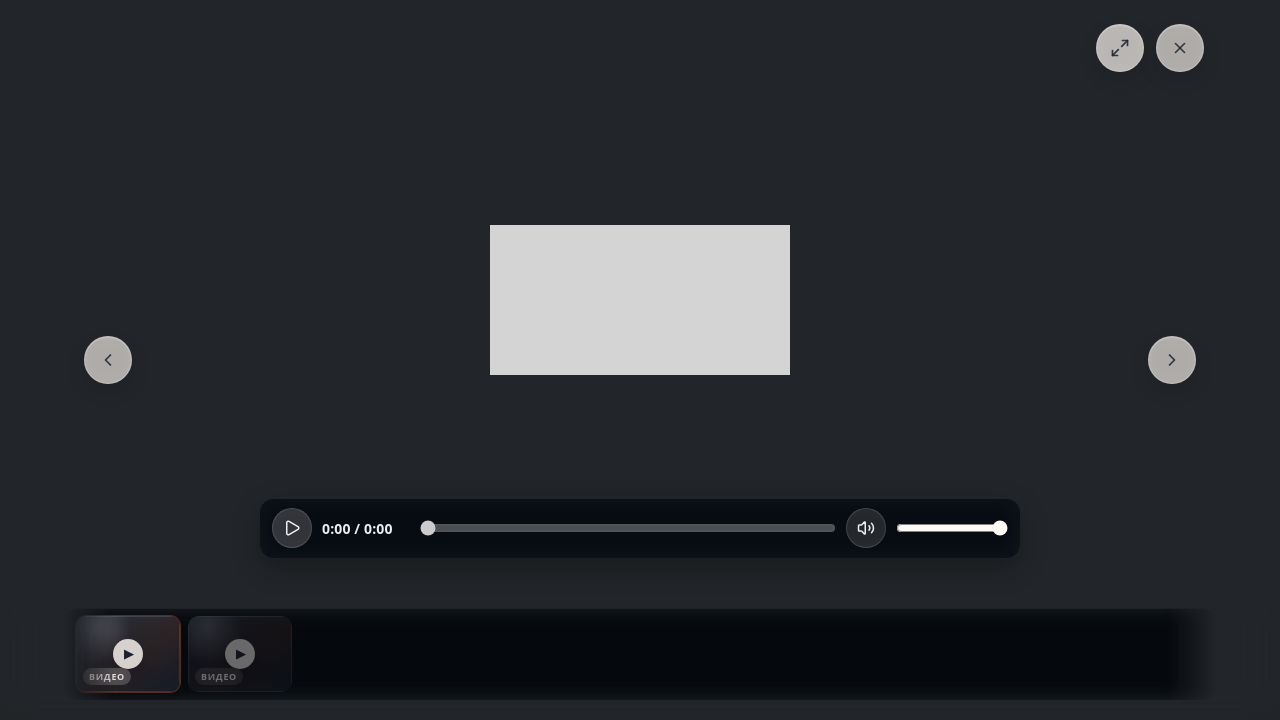
Test: person media gallery › pauses the current lightbox video before moving to the next media
This screenshot has width=1280, height=720.
Click the button named "Следующее медиа" at (1172, 360), box [1148,336,1196,384]
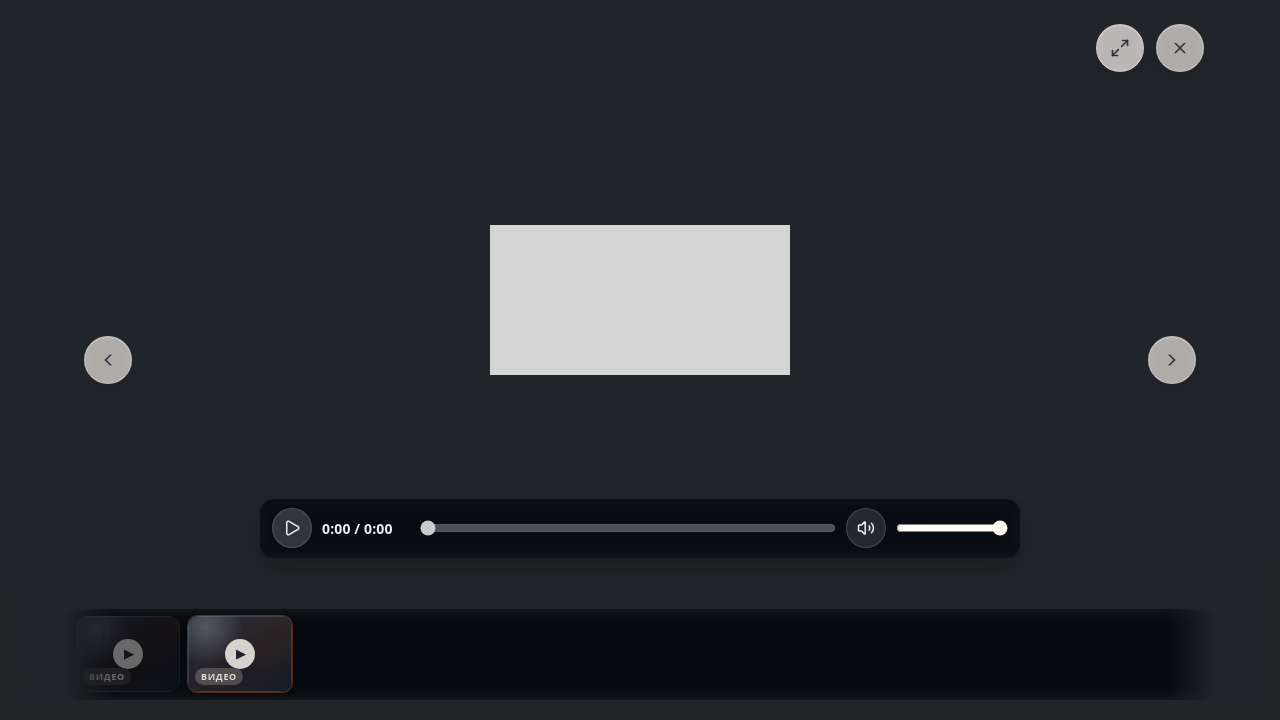
Check: the dialog named "Просмотр архива: Архивное видео 2" is shown
